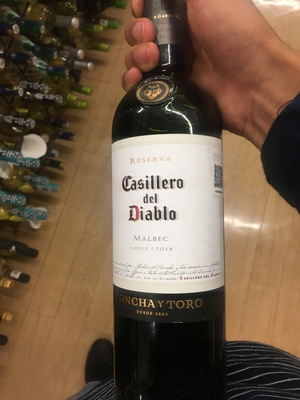casillero del diablo malbec: (101, 11, 249, 400)
